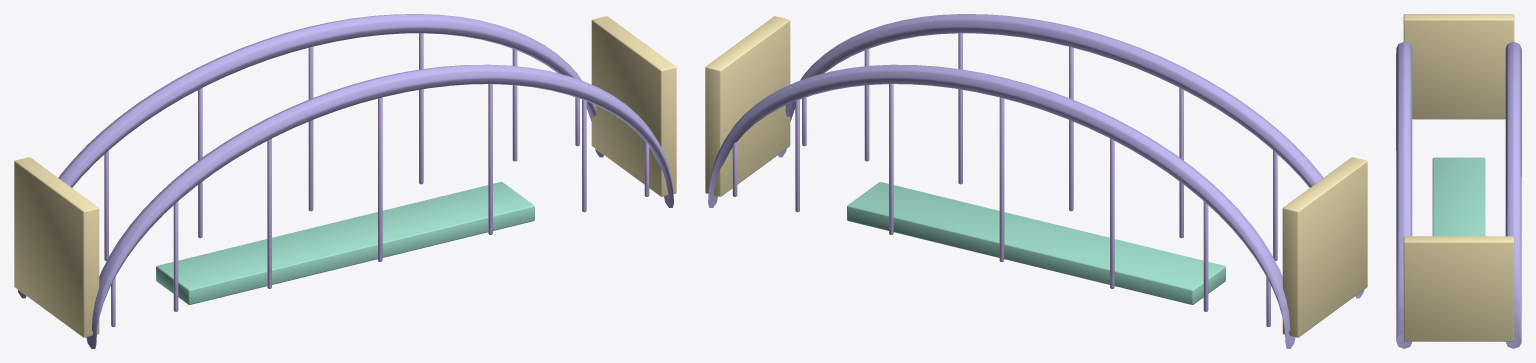
Rendered from bridge-v2.glb.
3 renders of one model, left to right at view 1: azimuth 30°, elevation 25°; view 2: azimuth 150°, elevation 25°; view 3: azimuth 270°, elevation 25°, orthographic. The views are drawn at different scales.
Parts seen in each view (by area): view 1: BridgeV2; view 2: BridgeV2; view 3: BridgeV2.
Boxes of the visible parts, x1,y1,x2,y2 form: BridgeV2: (14, 14, 676, 348); BridgeV2: (705, 14, 1367, 348); BridgeV2: (1396, 14, 1521, 348).
Bounding box in the file's own units: 5.14 × 1.66 × 1.2.
